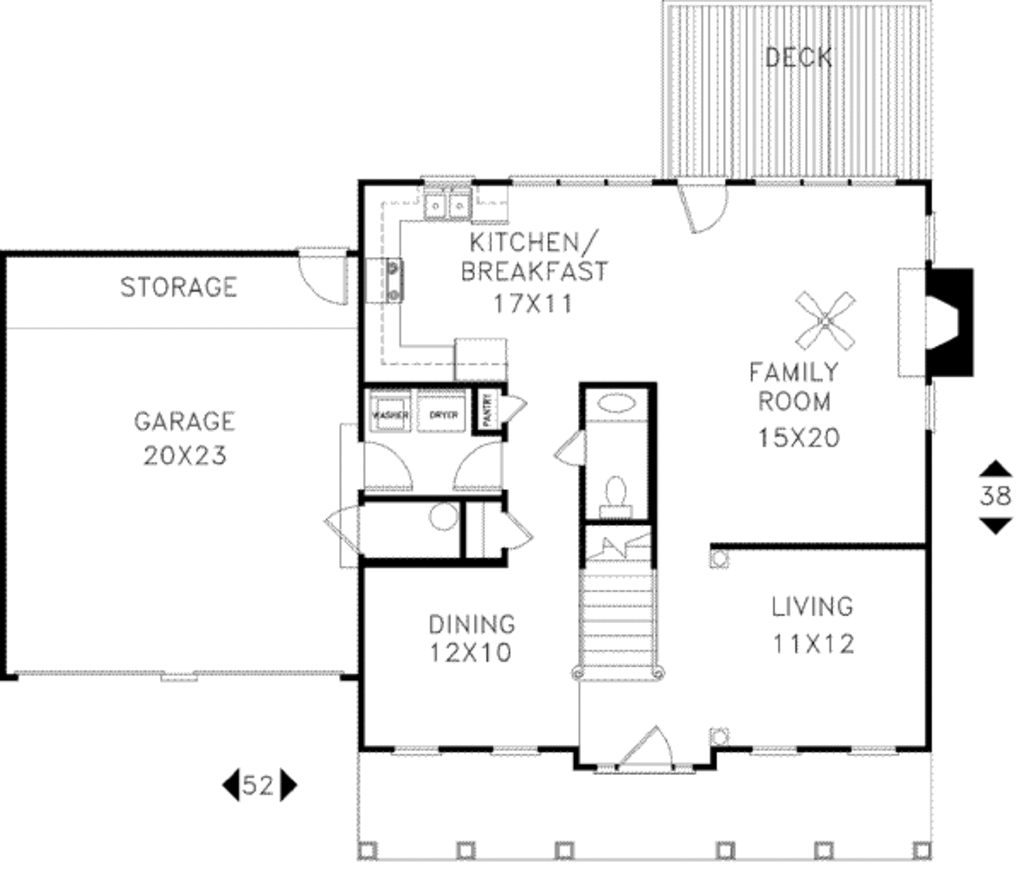door: (293, 244, 354, 309), (356, 437, 419, 497), (677, 175, 728, 237), (453, 439, 505, 491), (620, 725, 678, 767), (322, 502, 363, 559), (538, 426, 581, 471), (494, 506, 533, 553)
large_sink: (588, 471, 648, 522)
small_sink: (573, 382, 667, 426)
stairs: (570, 524, 666, 682)
twin_sink: (418, 185, 473, 225)
windows: (502, 169, 661, 194), (746, 173, 900, 192), (389, 741, 449, 763), (749, 741, 803, 763), (479, 741, 542, 758), (920, 208, 940, 261), (846, 740, 897, 759), (922, 377, 936, 440)
